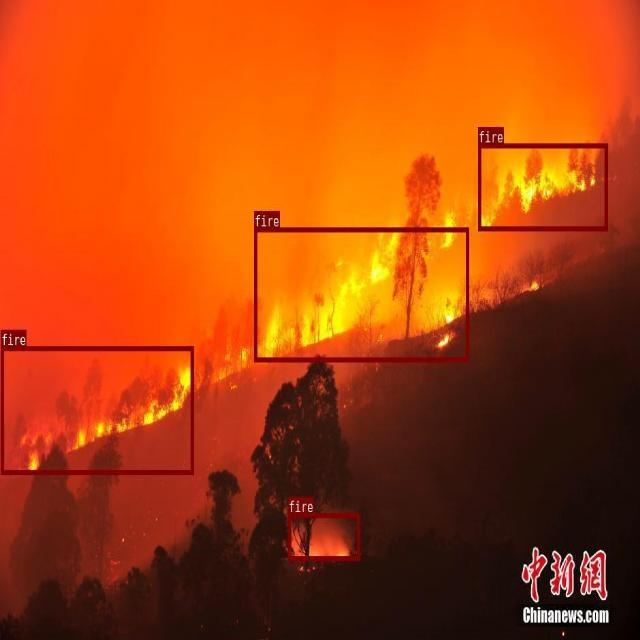fire: (254, 227, 468, 361), (1, 346, 194, 474), (478, 142, 607, 230), (288, 512, 359, 560)
